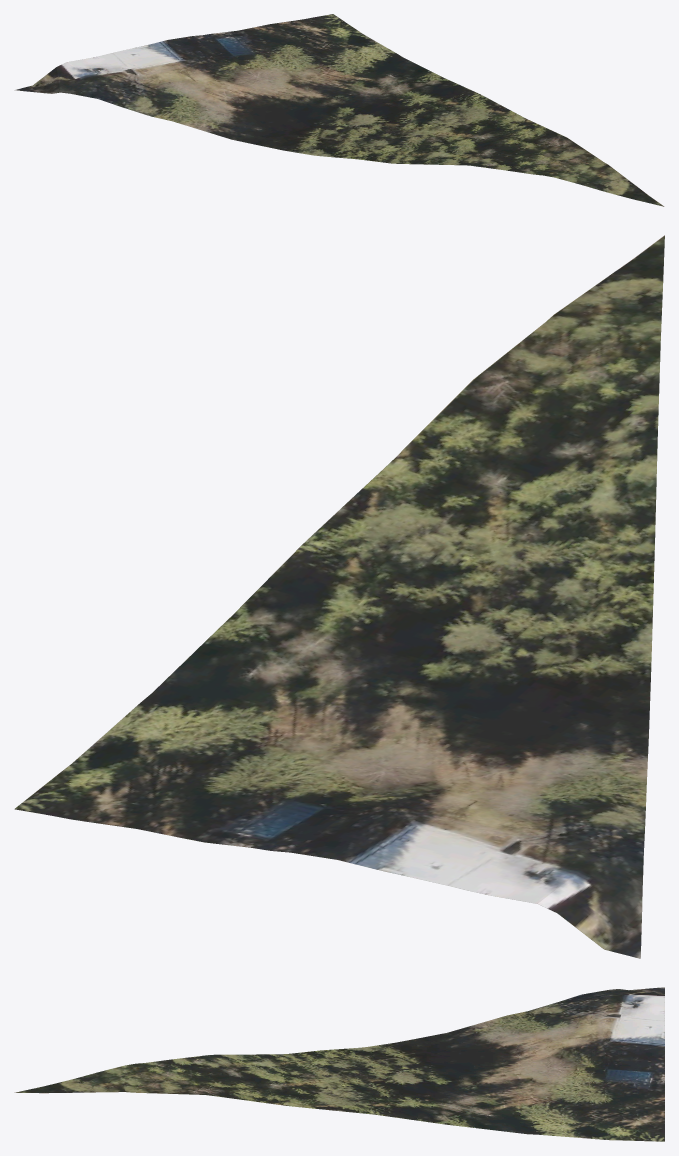
Rendered from CM_Terrain_24489844_6817541.fbx.
3 renders of one model, top to bottom at view 1: azimuth 30°, elevation 25°; view 2: azimuth 150°, elevation 25°; view 3: azimuth 270°, elevation 25°, orthographic. The views are drawn at different scales.
Visible parts, largest first — view 1: CM_Terrain_24489844_6817541_LOD0; view 2: CM_Terrain_24489844_6817541_LOD0; view 3: CM_Terrain_24489844_6817541_LOD0.
Boxes of the visible parts, left/top/right/bottom form: CM_Terrain_24489844_6817541_LOD0: left=14, top=14, right=664, bottom=206; CM_Terrain_24489844_6817541_LOD0: left=14, top=235, right=664, bottom=958; CM_Terrain_24489844_6817541_LOD0: left=14, top=987, right=664, bottom=1141.
Size of what is drawn, in the model's own units: 67.43 by 10.33 by 121.
